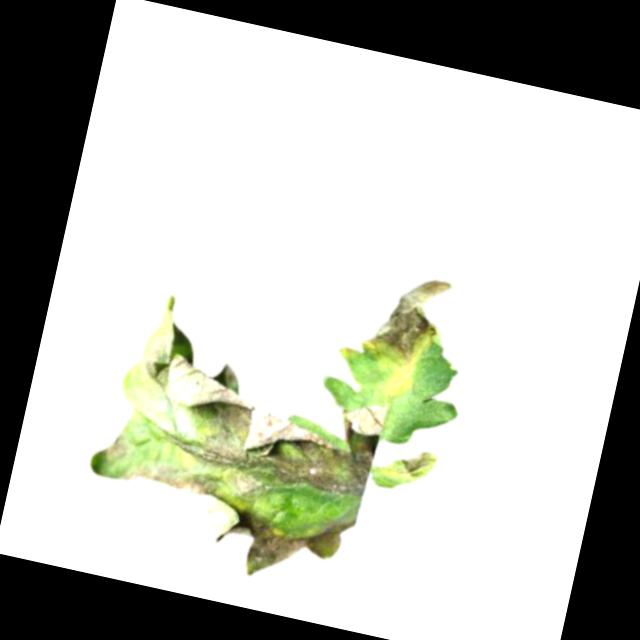Late_blight: (168, 374, 381, 524), (206, 494, 353, 595), (361, 266, 458, 377), (118, 458, 222, 515), (335, 400, 388, 458), (393, 444, 440, 484), (98, 434, 130, 467)
